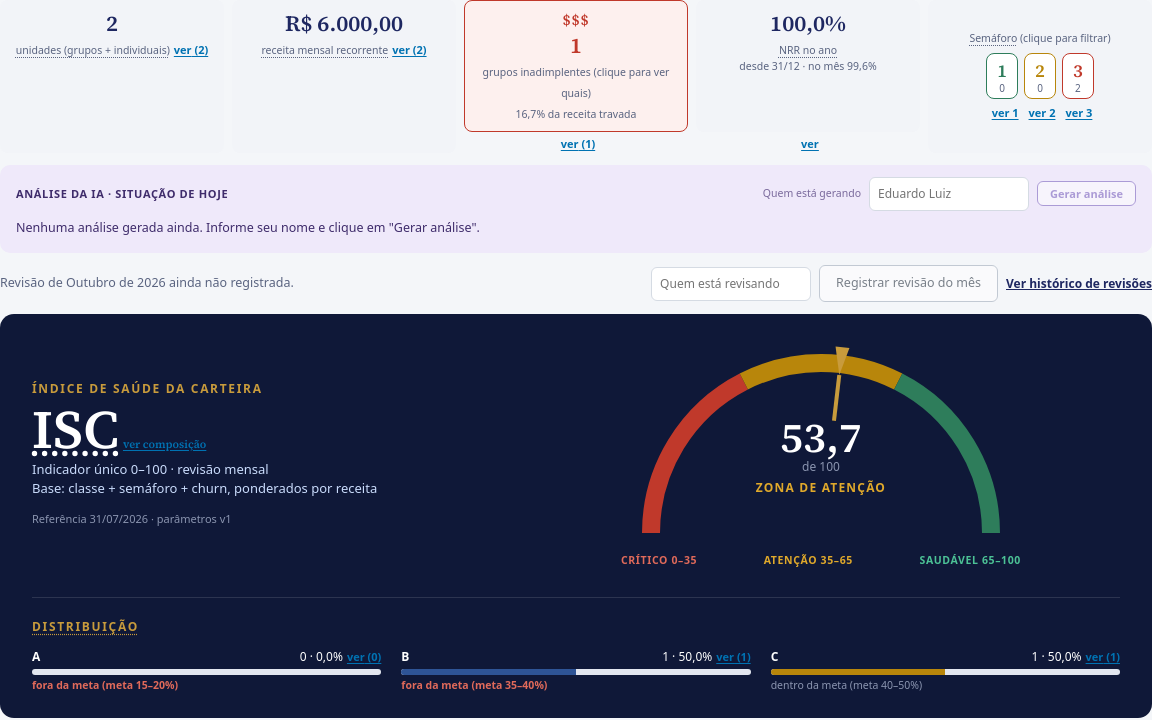
Test case: Saúde da carteira: $$$, composições e NRR no ano (18/10/2026) › o NRR no ano usa 1º de janeiro, mostra o do mês e abre a ponte só com quem já existia
expect the text "100,0%" is shown: met, box [770,8,846,38]
expect the text "desde 31/12 · no mês 99,6%" is shown: met, box [739,59,877,73]
Click the button with aria-label "Ver composição: NRR no ano" at coordinates (810, 144), box [801,136,819,152]
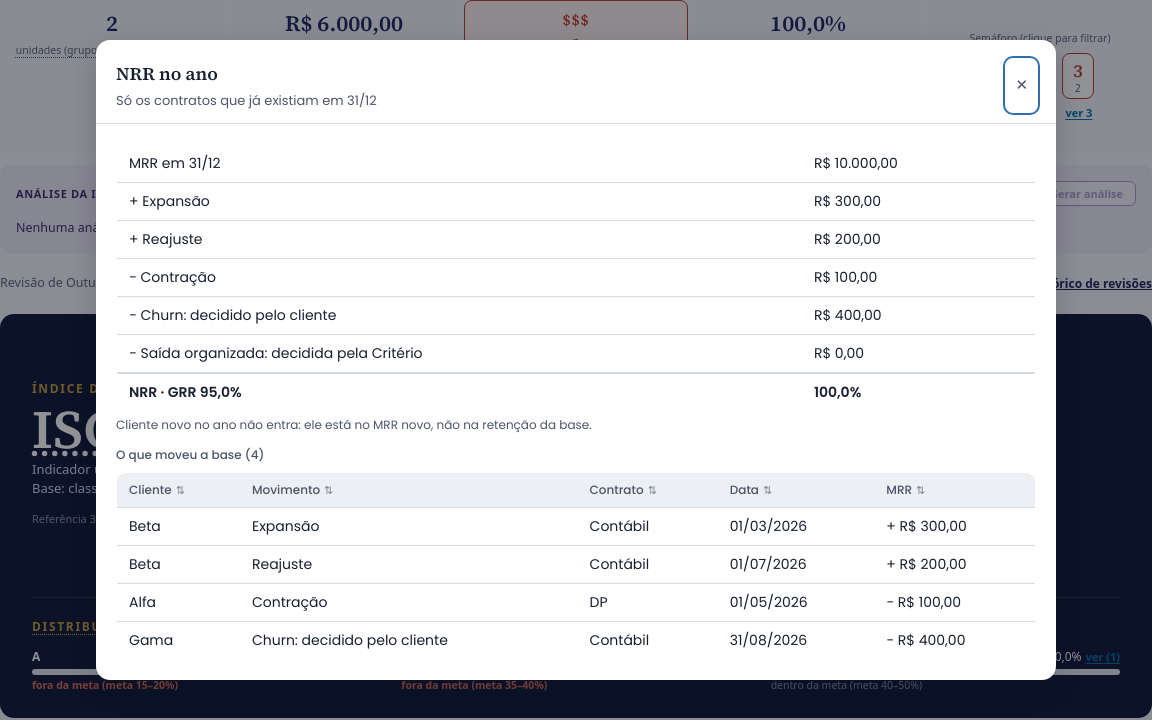
expect the text "NRR · GRR 95,0%" is shown: met, box [116,373,802,411]
expect the text "Gama" is shown: met, box [116,621,240,659]
